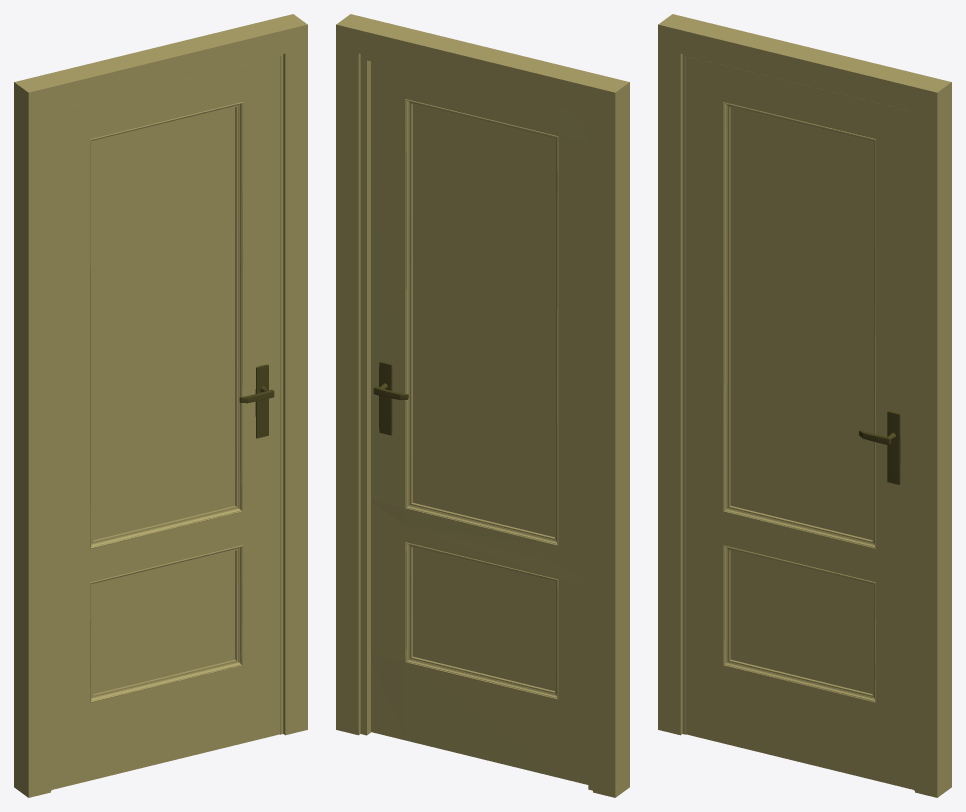
Rendered from puerta.obj.
The picture shows the model from 3 angles, left to right: view 1: azimuth 30°, elevation 25°; view 2: azimuth 150°, elevation 25°; view 3: azimuth 330°, elevation 25°; orthographic projection.
Visible parts, largest first — view 1: door_Mesh, marc_Cube, maneta_puerta_Plane; view 2: door_Mesh, marc_Cube, maneta_puerta_Plane; view 3: door_Mesh, marc_Cube, maneta_puerta_Plane.
Boxes of the visible parts, <box> form: door_Mesh: <box>52,56,279,789</box>; marc_Cube: <box>14,14,307,797</box>; maneta_puerta_Plane: <box>239,364,274,438</box>; door_Mesh: <box>371,61,588,784</box>; marc_Cube: <box>336,14,629,797</box>; maneta_puerta_Plane: <box>373,361,408,435</box>; door_Mesh: <box>686,56,913,789</box>; marc_Cube: <box>658,14,951,797</box>; maneta_puerta_Plane: <box>859,411,900,484</box>.
Bounding box in the file's own units: 0.8738 × 2.11 × 0.1381.
